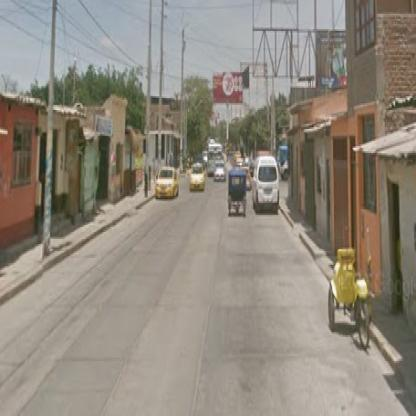Vehiculo: (329, 250, 373, 352), (254, 157, 281, 214), (229, 169, 247, 219), (156, 166, 181, 200), (190, 164, 207, 194)
